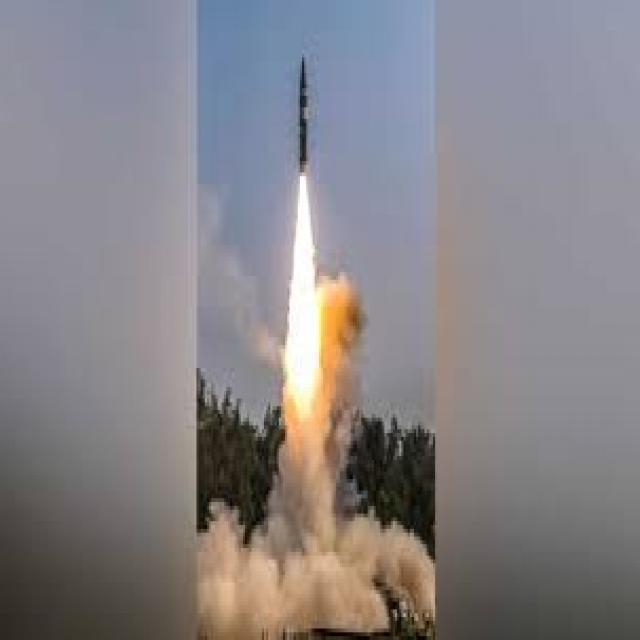missile: (295, 51, 314, 171)
